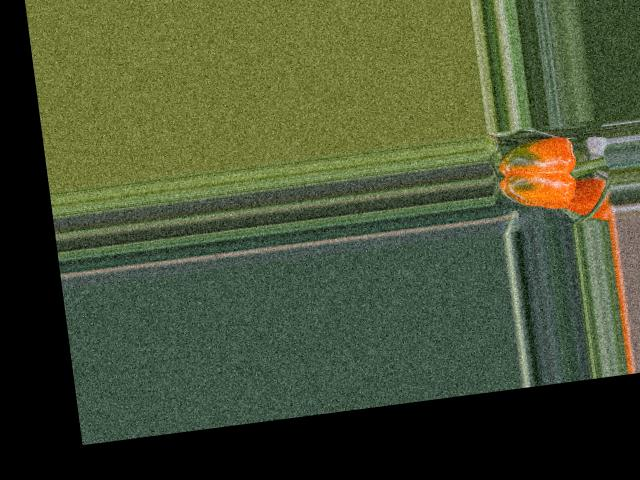bell_pepper: (487, 124, 590, 219)
